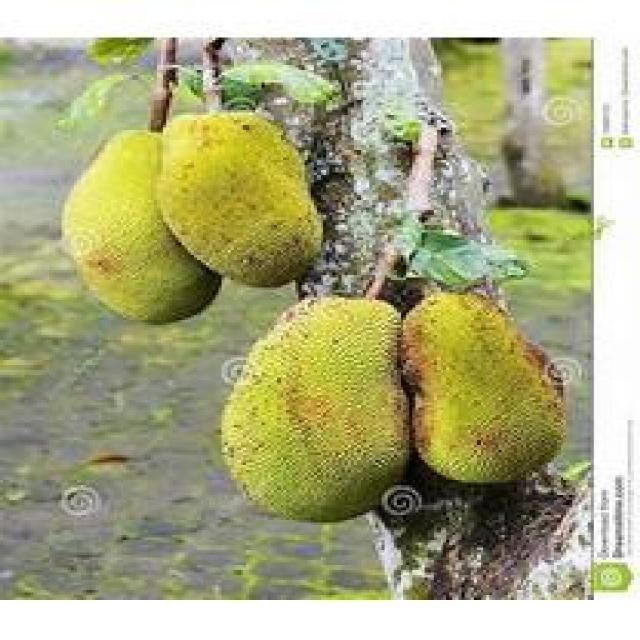Fruit: (40, 95, 338, 343), (209, 282, 422, 538), (388, 278, 578, 498)
